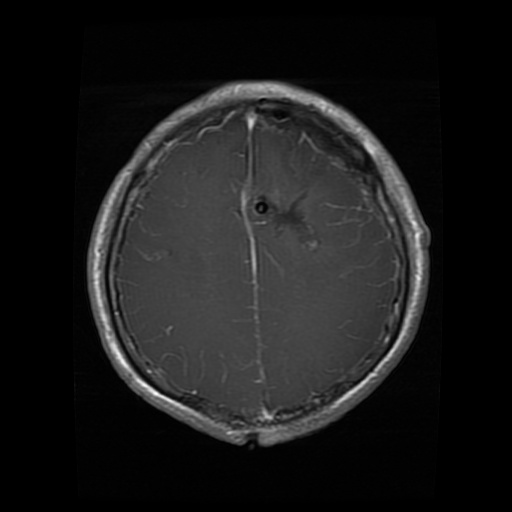glioma: (269, 191, 320, 250)
